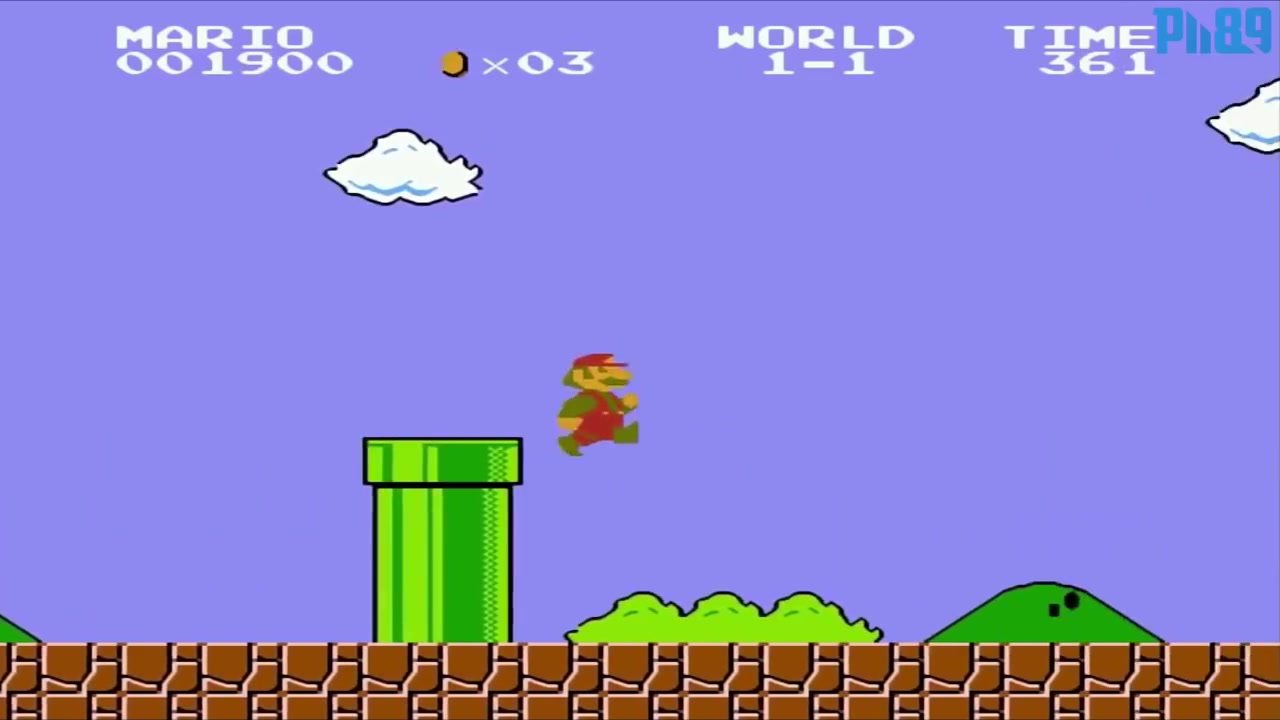mario: (548, 347, 649, 468)
